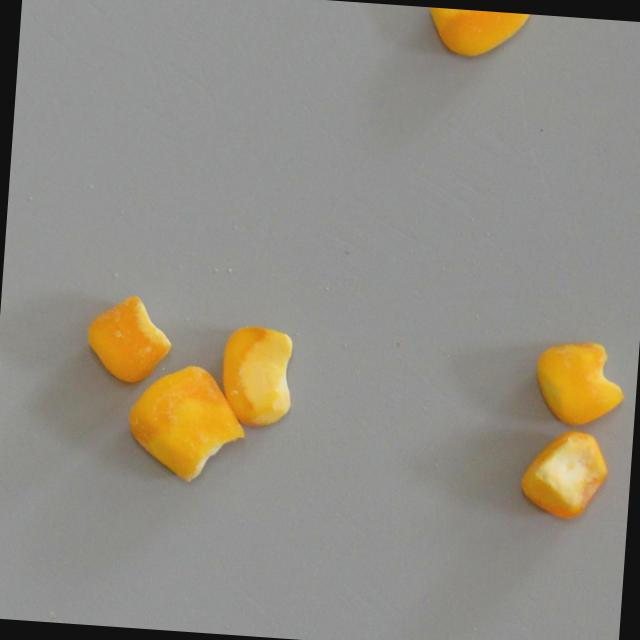no_canjicado: (532, 337, 626, 429), (423, 7, 534, 63)
pelicula: (124, 359, 249, 485), (515, 426, 608, 521), (215, 322, 296, 430), (81, 290, 172, 386)
